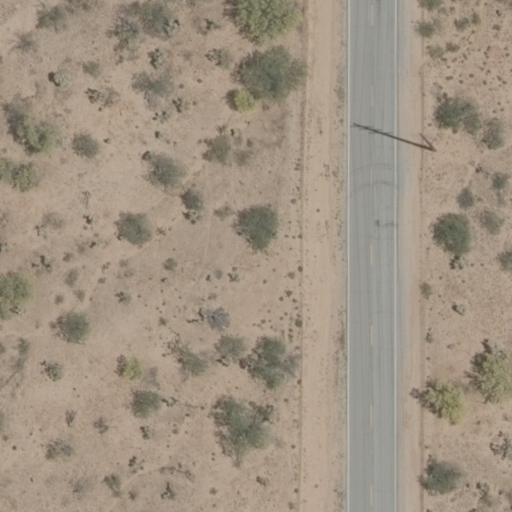DT: (414, 124, 440, 157)
